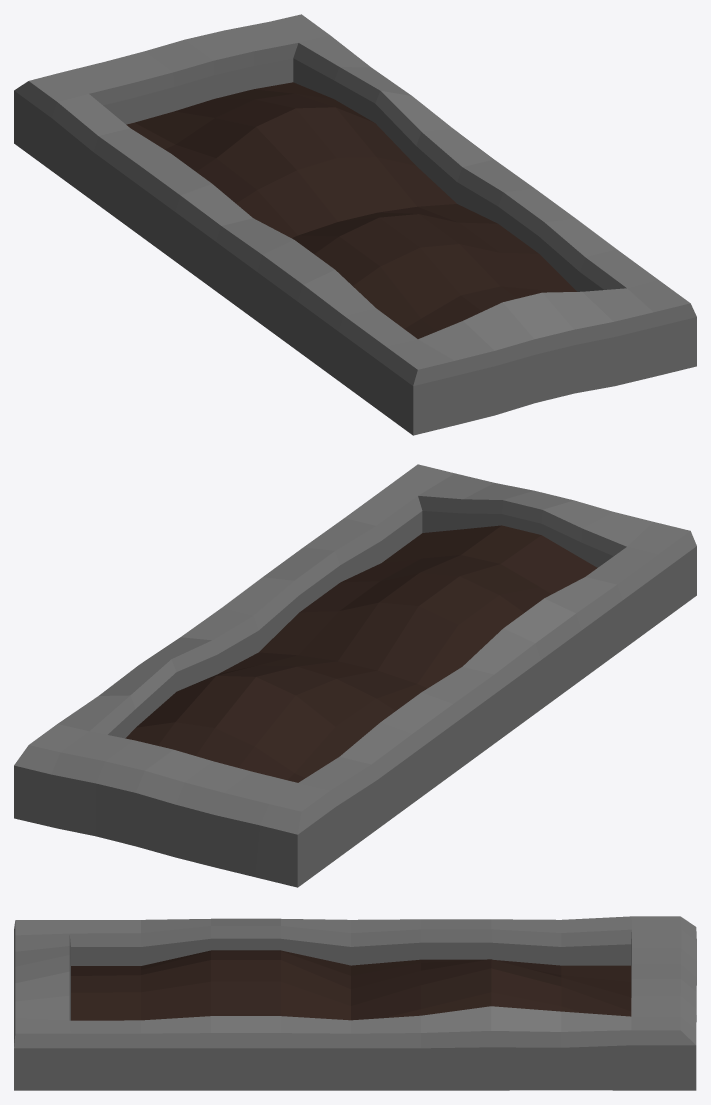
Rendered from Tombstones 3.fbx.
3 views of the same model, one above another, from view 1: azimuth 30°, elevation 25°; view 2: azimuth 150°, elevation 25°; view 3: azimuth 270°, elevation 25° (orthographic). The views are drawn at different scales.
Visible parts, largest first — view 1: TombStone 1.001; view 2: TombStone 1.001; view 3: TombStone 1.001.
Part boxes in pixels (x1=…): TombStone 1.001: x1=14, y1=14, x2=696, y2=435; TombStone 1.001: x1=14, y1=464, x2=696, y2=887; TombStone 1.001: x1=14, y1=916, x2=696, y2=1090.
Bounding box in the file's own units: 40 × 11.24 × 97.54.
